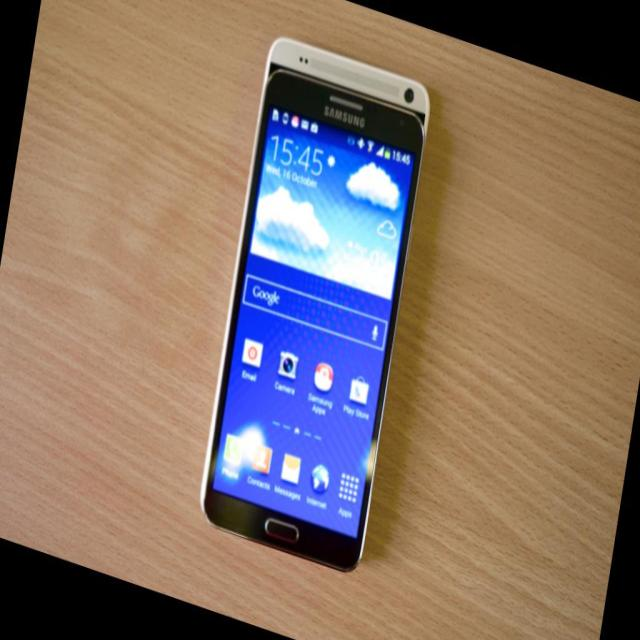handphone: (205, 77, 431, 570)
